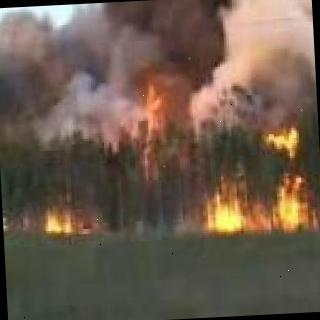fire: (202, 122, 315, 236), (143, 78, 172, 162), (40, 197, 102, 236)
